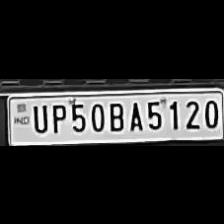0: (87, 99, 105, 131), (202, 96, 218, 128)
1: (163, 97, 179, 129)
2: (180, 96, 200, 130)
5: (68, 98, 86, 132), (144, 96, 162, 130)
A: (127, 98, 143, 132)
B: (105, 99, 124, 131)
P: (47, 99, 66, 133)
U: (28, 98, 48, 132)
